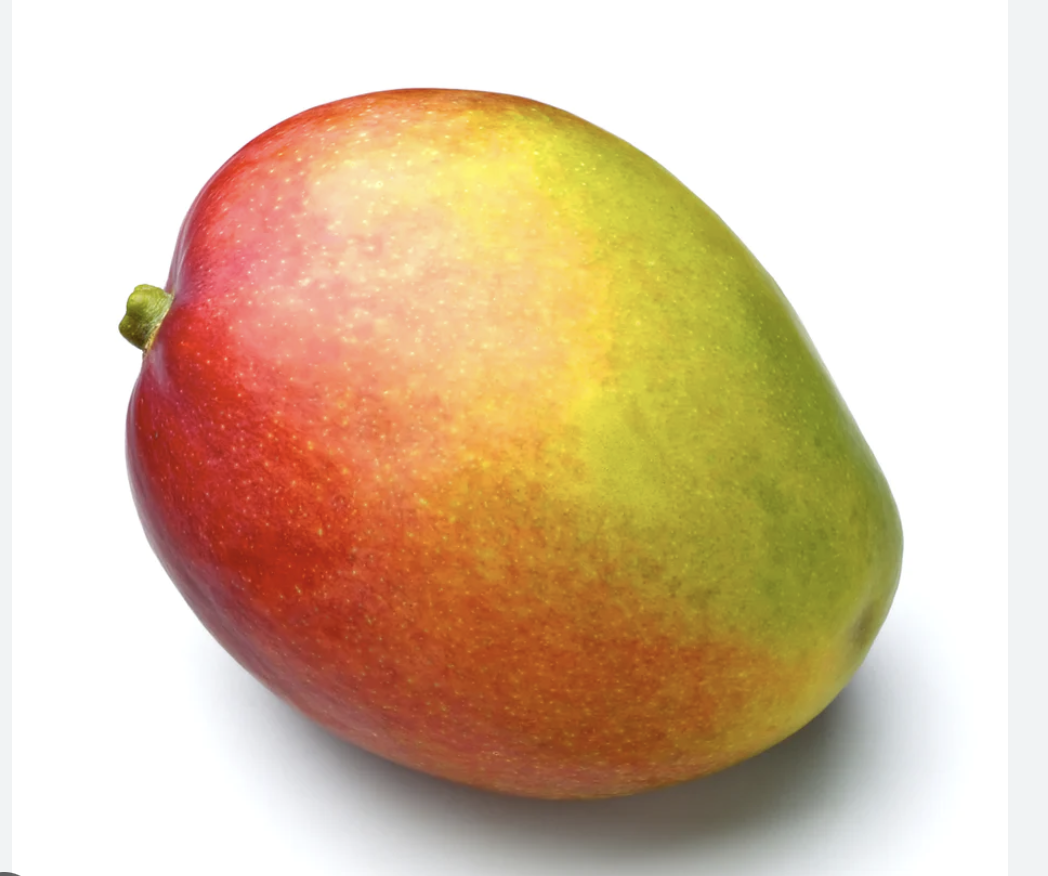mango: (50, 32, 973, 832)
